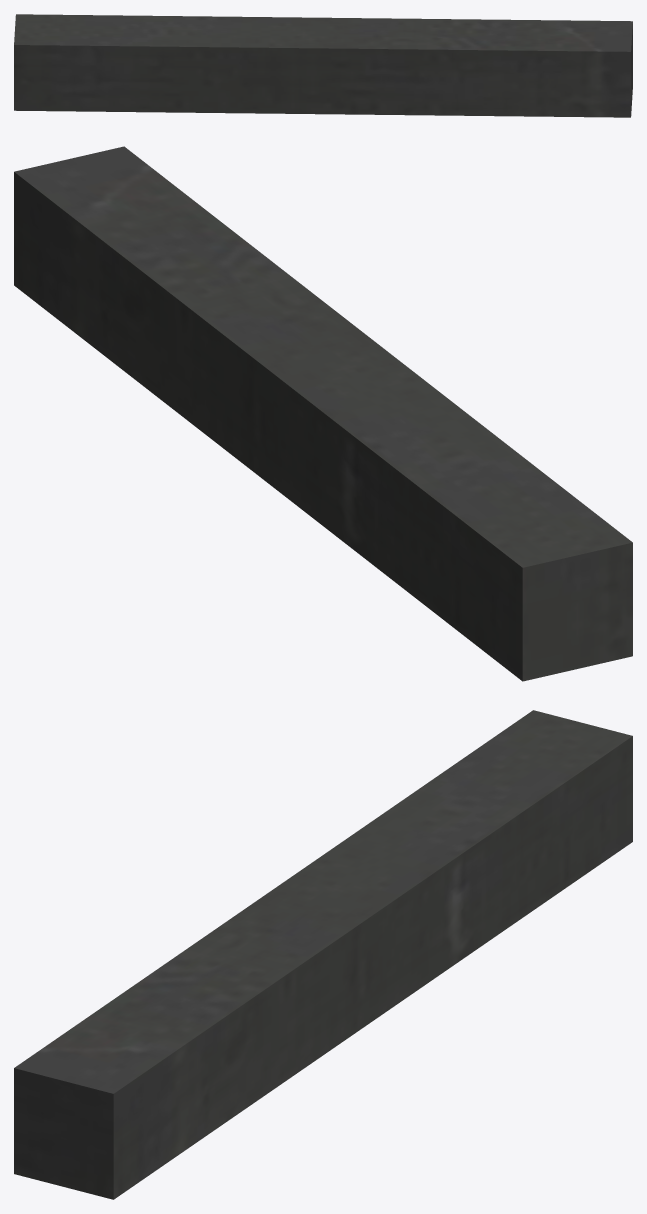
File: frame__front_brace.glb
3 renders of one model, top to bottom at view 1: azimuth 30°, elevation 25°; view 2: azimuth 150°, elevation 25°; view 3: azimuth 270°, elevation 25°, orthographic. The views are drawn at different scales.
Parts seen in each view (by area): view 1: world; view 2: world; view 3: world.
Part boxes in pixels (left/top/right/bottom): world: left=14, top=14, right=632, bottom=117; world: left=14, top=146, right=632, bottom=681; world: left=14, top=710, right=632, bottom=1199.
Bounding box in the file's own units: 0.3108 × 0.04 × 0.2118.
1 material, 1 textured.
